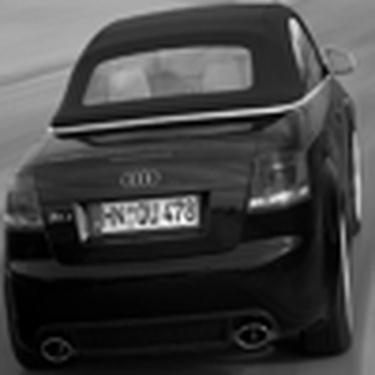car: (1, 1, 369, 369)
